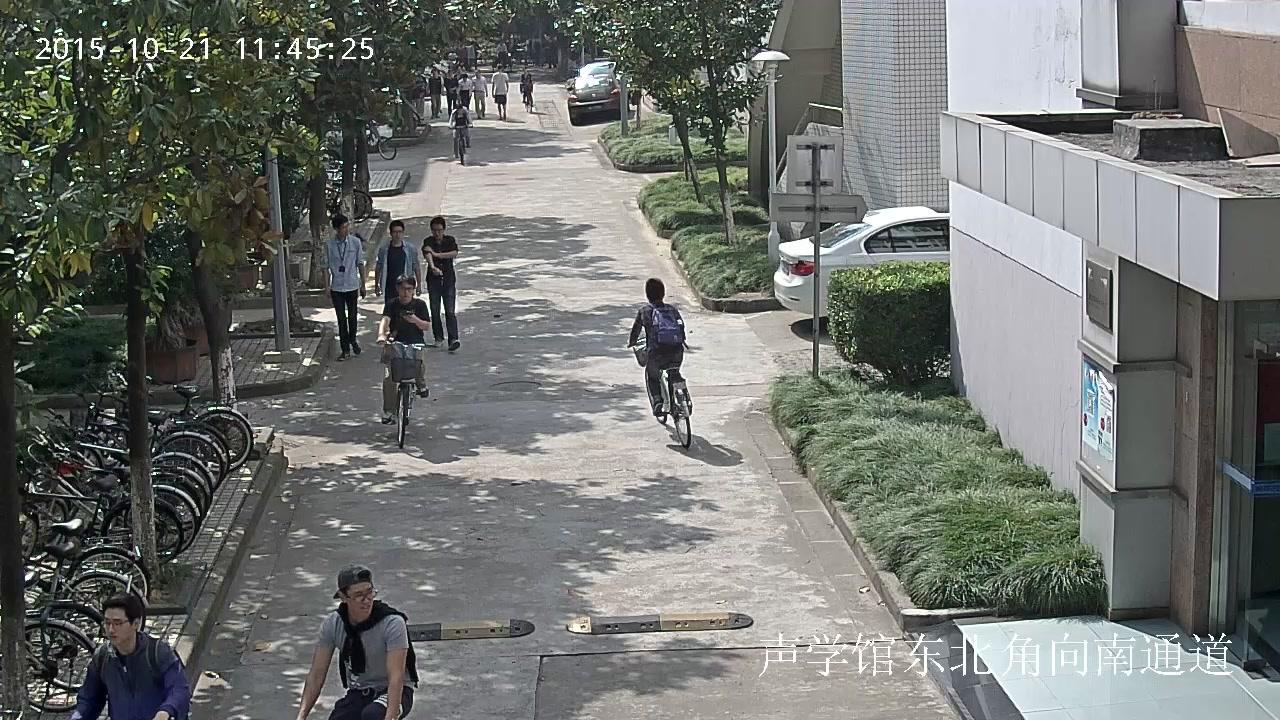face: (103, 608, 132, 643), (348, 582, 372, 617), (399, 282, 413, 302), (391, 225, 403, 242), (431, 222, 442, 238), (337, 221, 348, 237), (456, 108, 464, 113), (448, 71, 453, 77), (463, 76, 467, 82), (500, 65, 503, 72), (523, 67, 527, 72), (434, 70, 437, 76), (475, 70, 478, 76)
